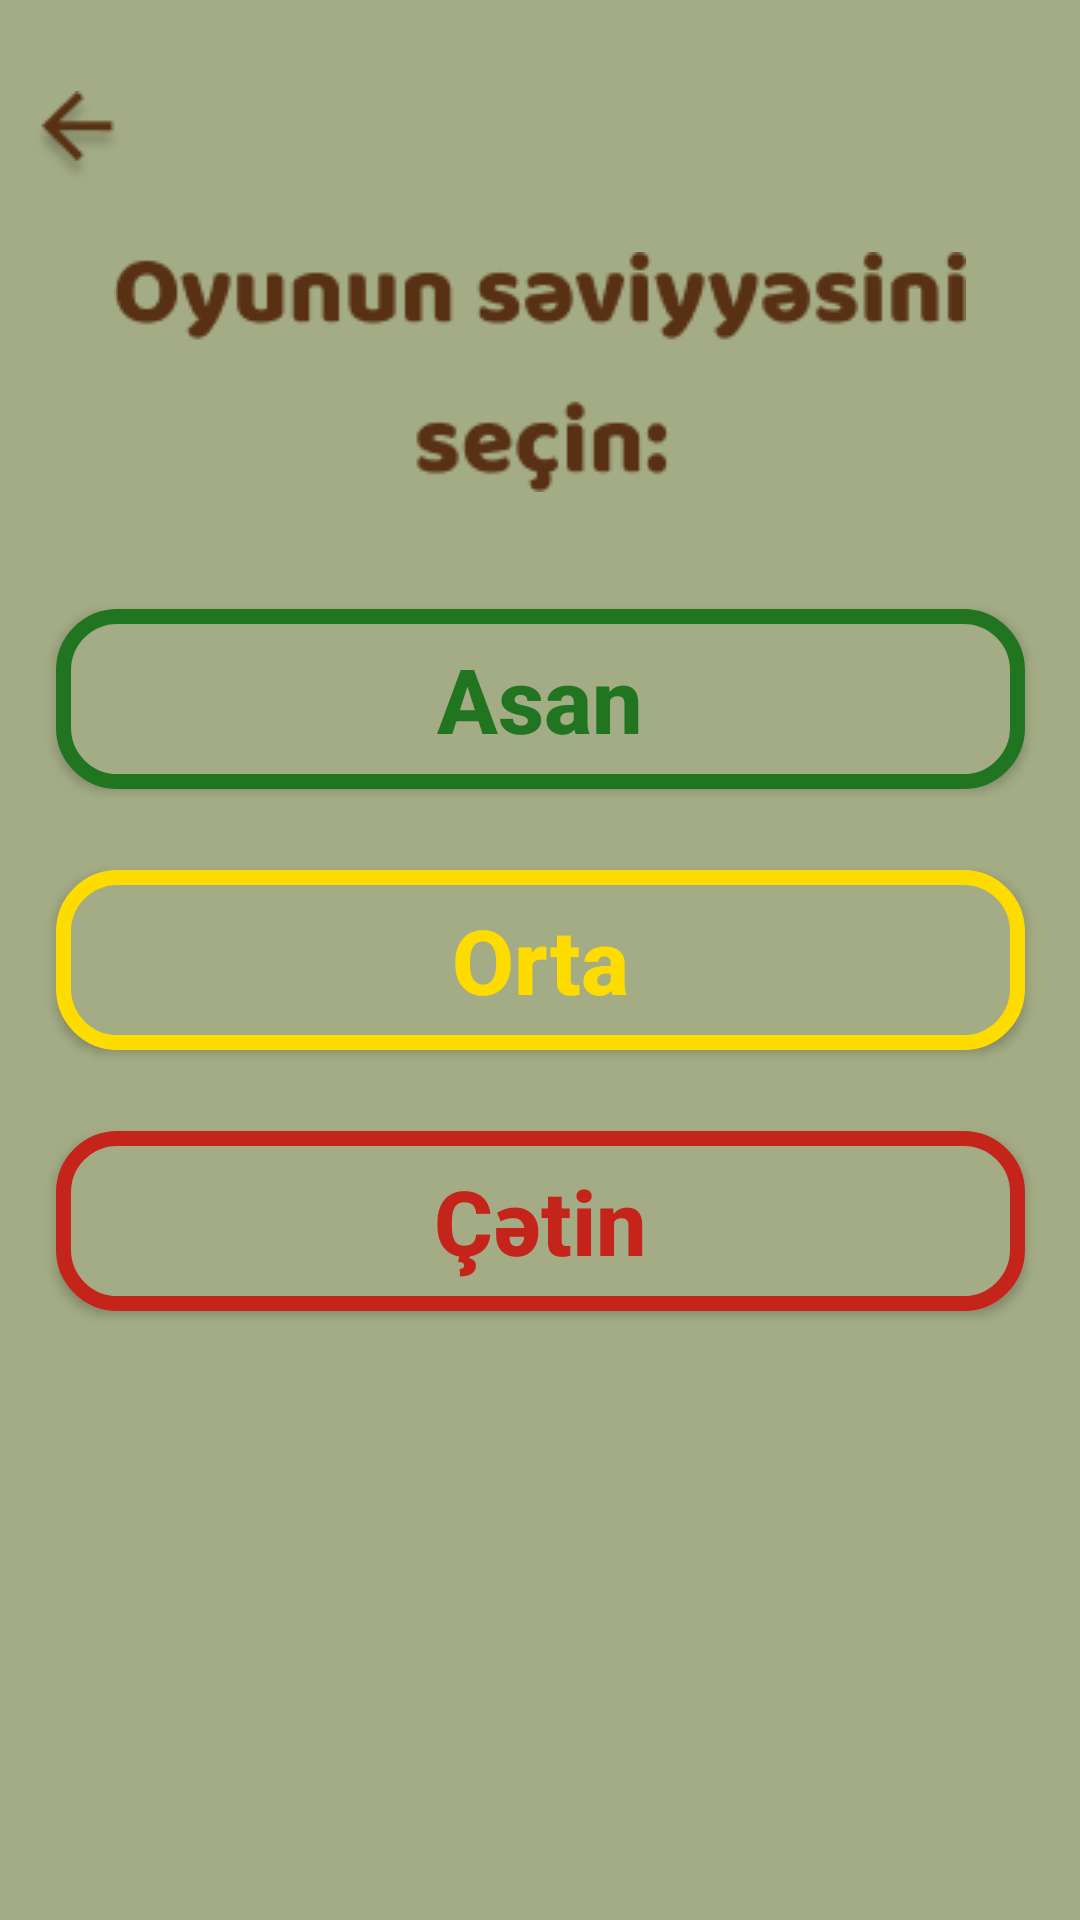

Icons on this 1080px×1920px Android screen, each with the point to tap as (x,y):
arrow: (77,127)
